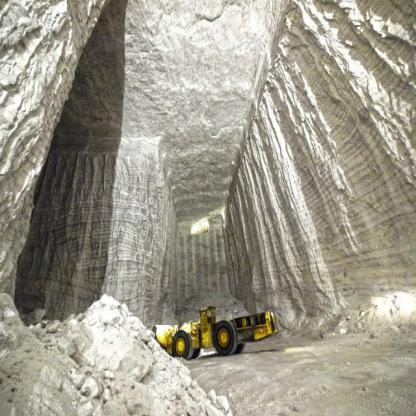bull_dozer/loader/grader: (145, 306, 289, 361)
